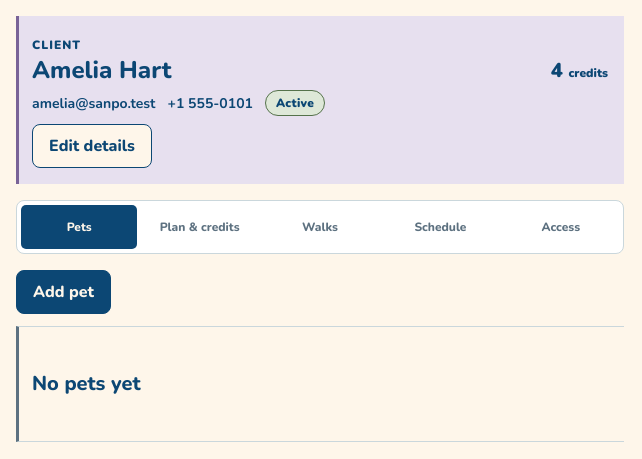
Test: ClientDetail edit affordances › still offers all of them on an ordinary client
Check: the heading "Amelia Hart" is shown, box [32, 57, 171, 85]
Check: the text "No pets yet" is shown, box [32, 372, 140, 396]
Click the tab "Access".
click(561, 227)  # box [503, 205, 619, 249]
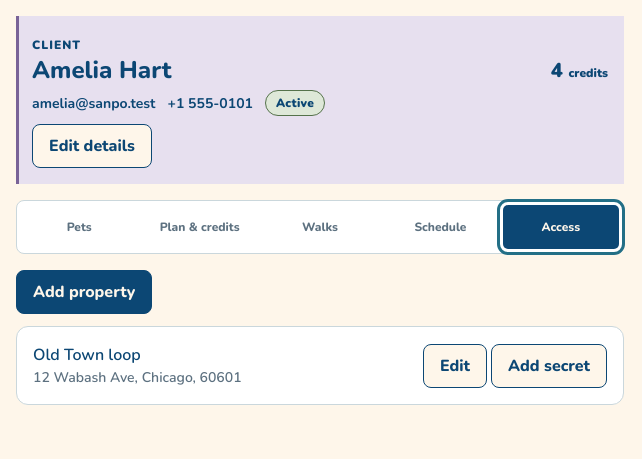
Check: the button "Add property" is shown, box [16, 270, 152, 314]
Check: the button with aria-label "Edit Old Town loop" is shown, box [423, 344, 487, 388]
Check: the button with aria-label "Add secret for Old Town loop" is shown, box [491, 344, 607, 388]
